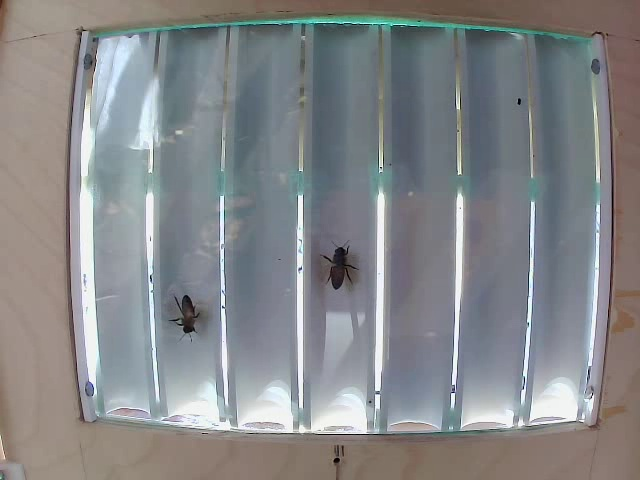bee: (166, 294, 206, 343), (323, 237, 352, 294)
